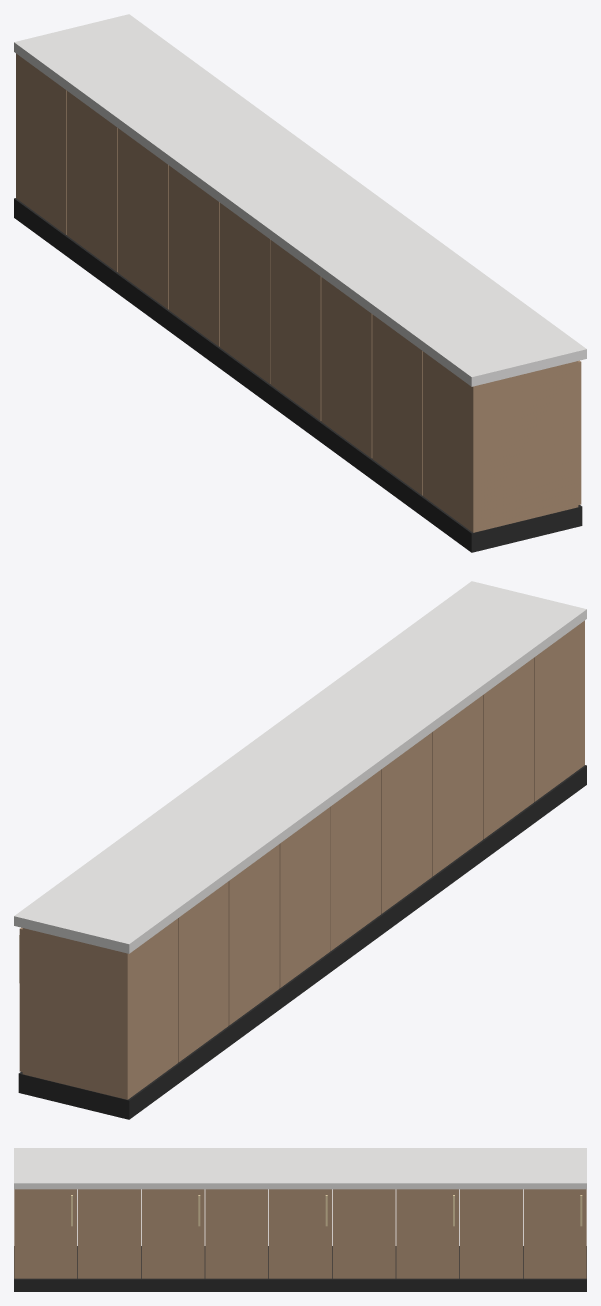
File: SM_Kitchen_Run.fbx
3 views of the same model, one above another, from view 1: azimuth 30°, elevation 25°; view 2: azimuth 150°, elevation 25°; view 3: azimuth 270°, elevation 25° (orthographic). The views are drawn at different scales.
Parts seen in each view (by area): view 1: SM_Kitchen_Run; view 2: SM_Kitchen_Run; view 3: SM_Kitchen_Run.
Part boxes in pixels (x1,y1,x2,y2): SM_Kitchen_Run: [14, 14, 586, 552]; SM_Kitchen_Run: [14, 581, 586, 1119]; SM_Kitchen_Run: [14, 1148, 586, 1291].
Bounding box in the file's own units: 62.5 × 91 × 430.
